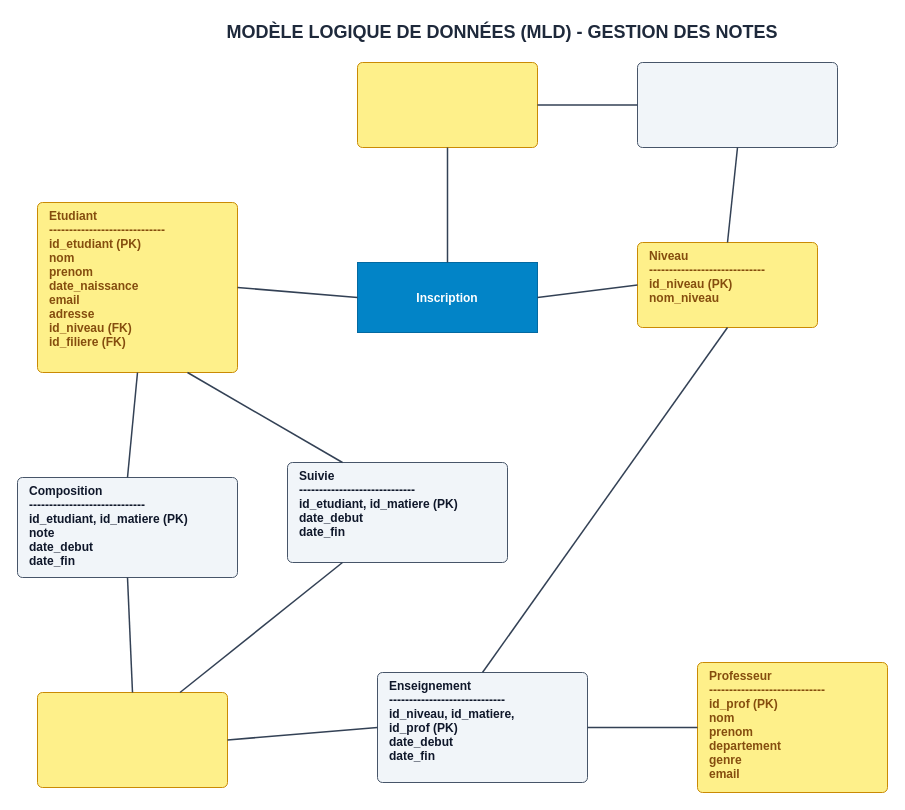
Image size: 905x810. Some labels were removed from this diagram. Each missing label, with the centre of its shape:
"Appartenance ----------------------------- id_niveau, id_filiere (PK)" goes at [737,105].
"Filliere ----------------------------- id_filliere (PK) nom_filliere" goes at [447,105].
"Matiere ----------------------------- id_matiere (PK) nom_matiere coefficient" goes at [132,740].
